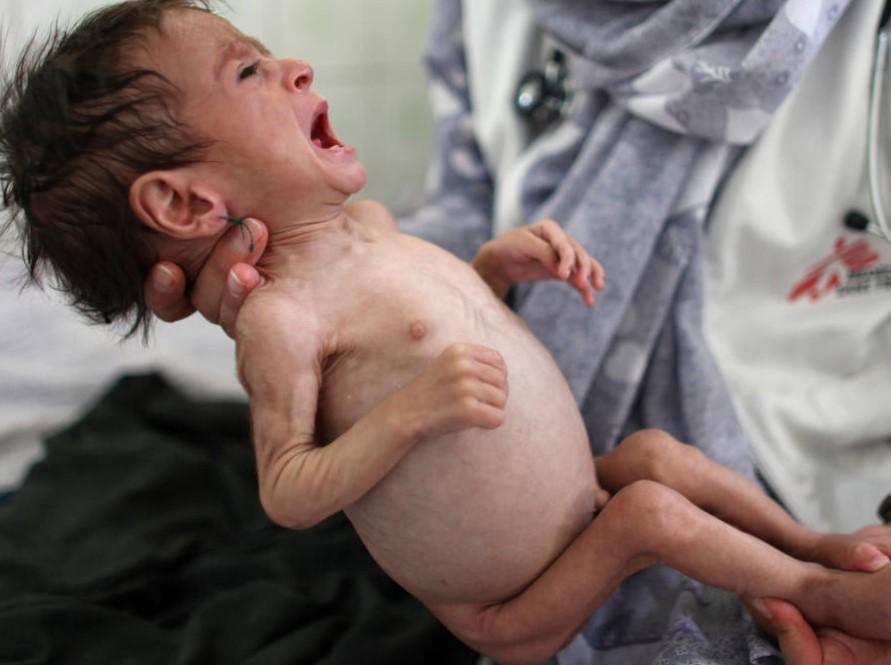Stunting: (0, 0, 425, 362)
